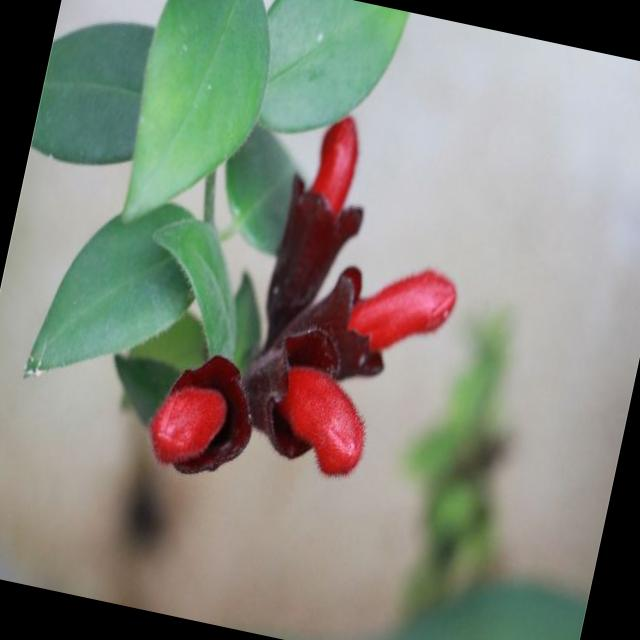Lipstick-Plant: (128, 82, 496, 550)
